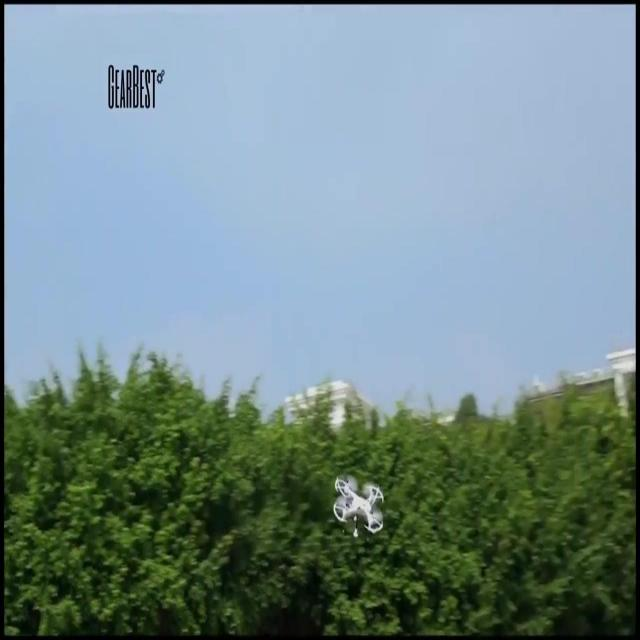UAV: (333, 476, 383, 537)
